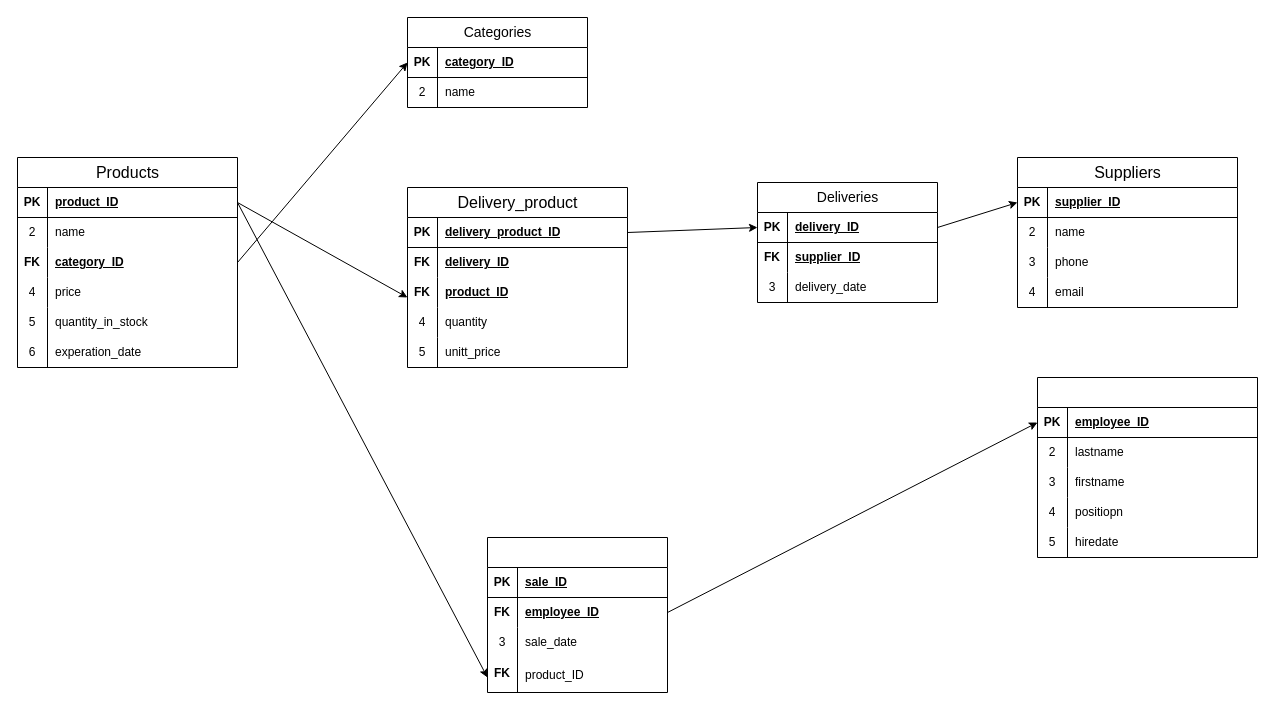
The diagram is 1275 pixels wide and 711 high, and some of its shapes have lost their labels. Here are the shapes that lost their labels. From the top down, the box of each, then its label:
(1036, 376, 1258, 558): Employees
(486, 536, 668, 692): Sales
